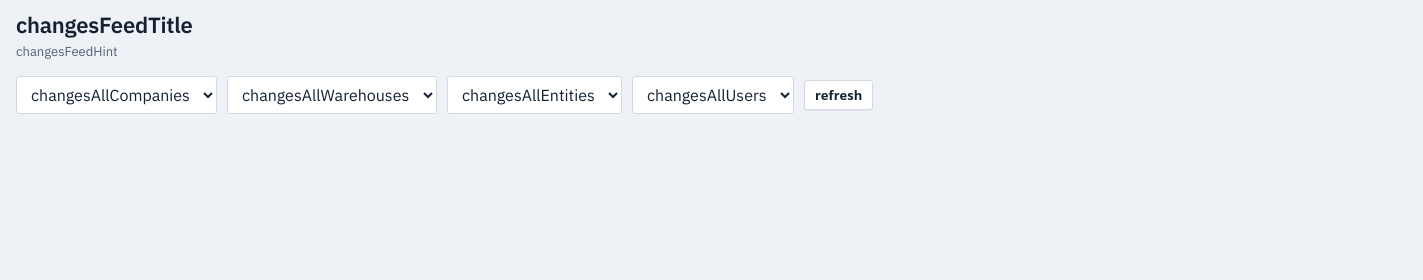
Test case: ChangesFeedPage — wyścig filtra › starsza odpowiedź (spółka A) nie nadpisuje nowszej (spółka B)
Select "B" in the dropdown named "company" at (116, 95), box 16,76 -> 217,114
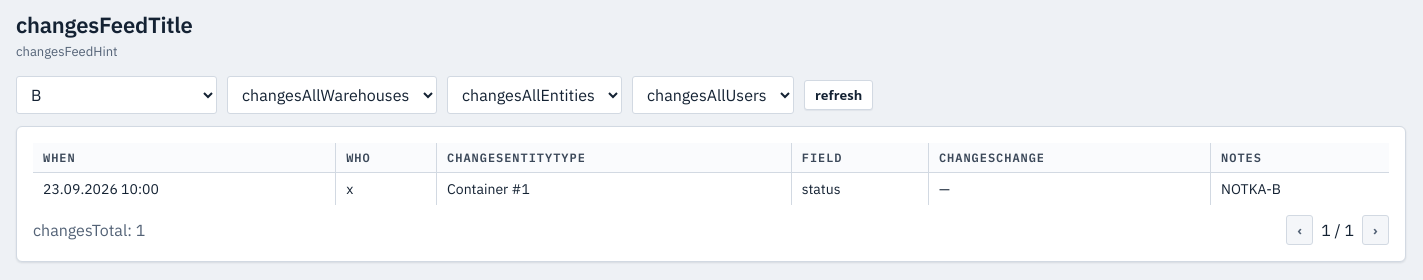
Now the text "NOTKA-B" is shown, box 1211,172 -> 1389,205
